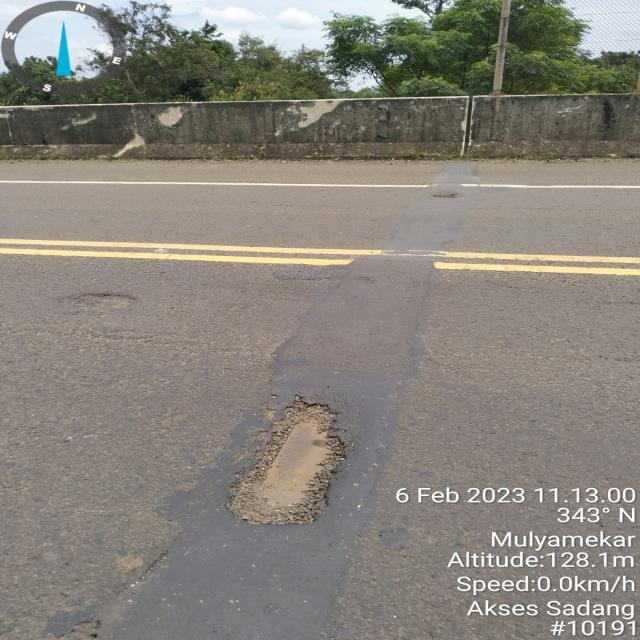Buraco: (219, 392, 354, 530), (70, 290, 139, 316), (429, 190, 461, 200)
